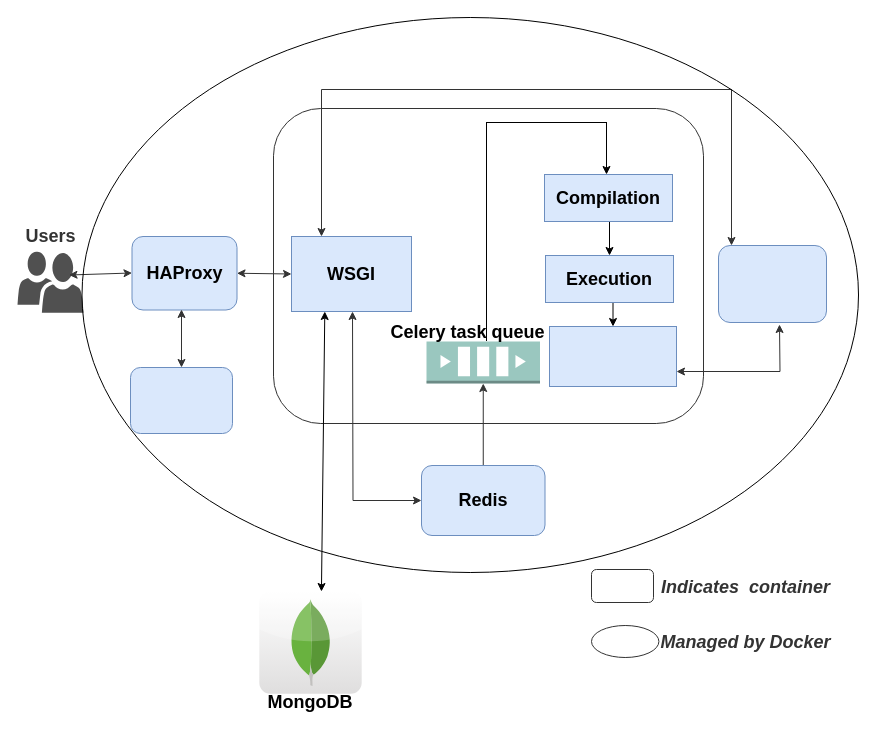
Image size: 876x735. Some labels were removed from this diagram. The centre of each missing label's shape, as x and y in pixels:
"Compare outputs" belongs at pixel 612 356.
"Nginx" belongs at pixel 181 400.
"Postgres Db" belongs at pixel 772 283.
